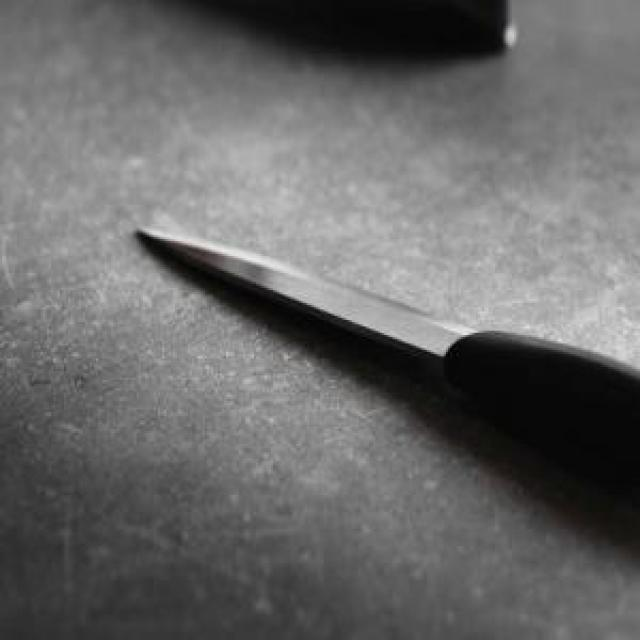knife: (136, 228, 639, 507)
